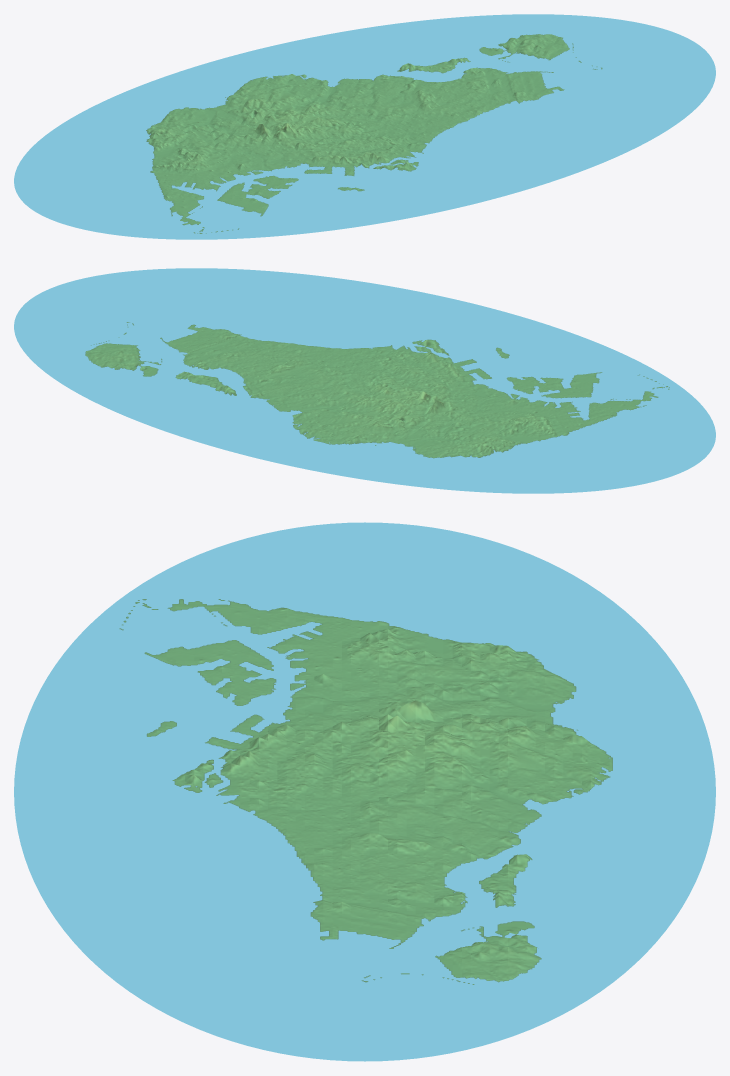
The model's file is SGP-terrain.glb.
3 renders of one model, top to bottom at view 1: azimuth 30°, elevation 25°; view 2: azimuth 150°, elevation 25°; view 3: azimuth 270°, elevation 25°, orthographic. The views are drawn at different scales.
Parts seen in each view (by area): view 1: Relevo com hidrografia; view 2: Relevo com hidrografia; view 3: Relevo com hidrografia.
Boxes of the visible parts, x1,y1,x2,y2 form: Relevo com hidrografia: (14, 14, 715, 239); Relevo com hidrografia: (14, 268, 715, 493); Relevo com hidrografia: (14, 522, 715, 1061).
Size of the model in its own units: 2.24 by 0.0427 by 1.24.
Materials: 2 (1 with a texture image).
